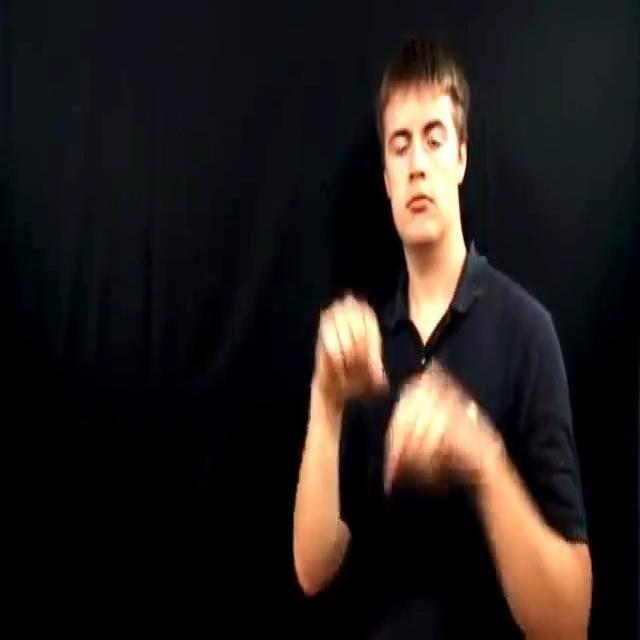bill: (304, 281, 500, 515)
